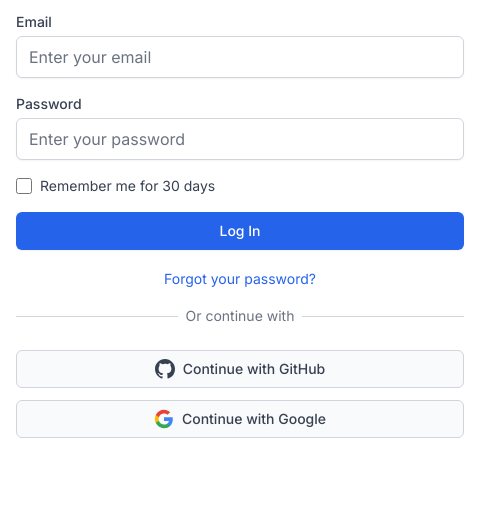
LoginForm › handles unexpected errors gracefully
The width and height of the screenshot is (481, 517).
Type "test@example.com" into the field labelled "Email".
click(240, 57); type("test@example.com")  # box [16, 36, 464, 78]
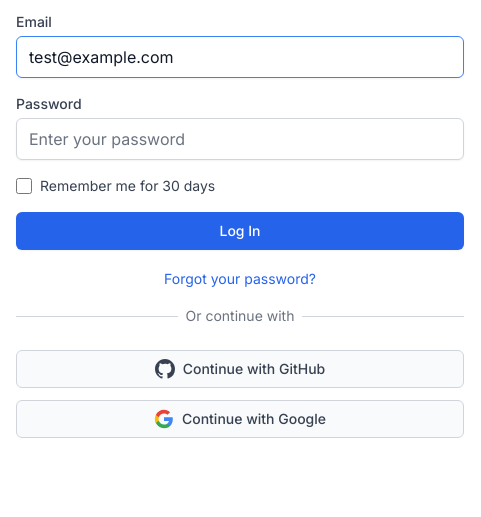
Type "password123" into the password field labelled "Password".
click(240, 139); type("password123")  # box [16, 118, 464, 160]
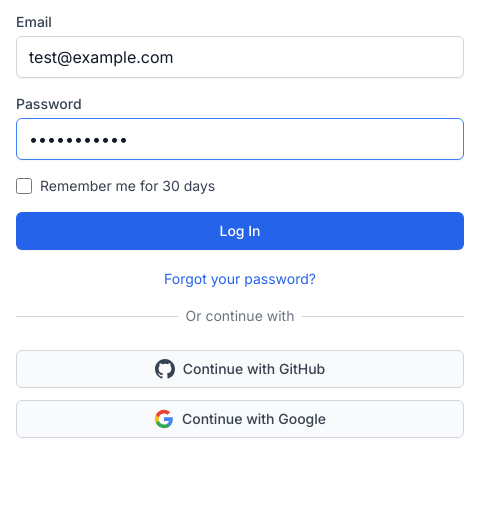
Click the button "Log In".
click(240, 231)  # box [16, 212, 464, 250]
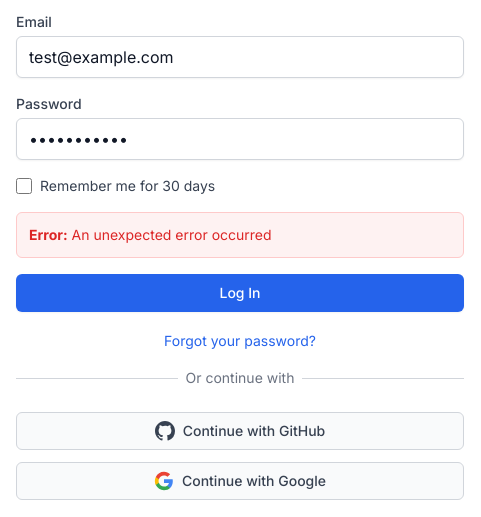
expect the text "Error: An unexpected error occurred" is shown: met, box [16, 212, 464, 258]
